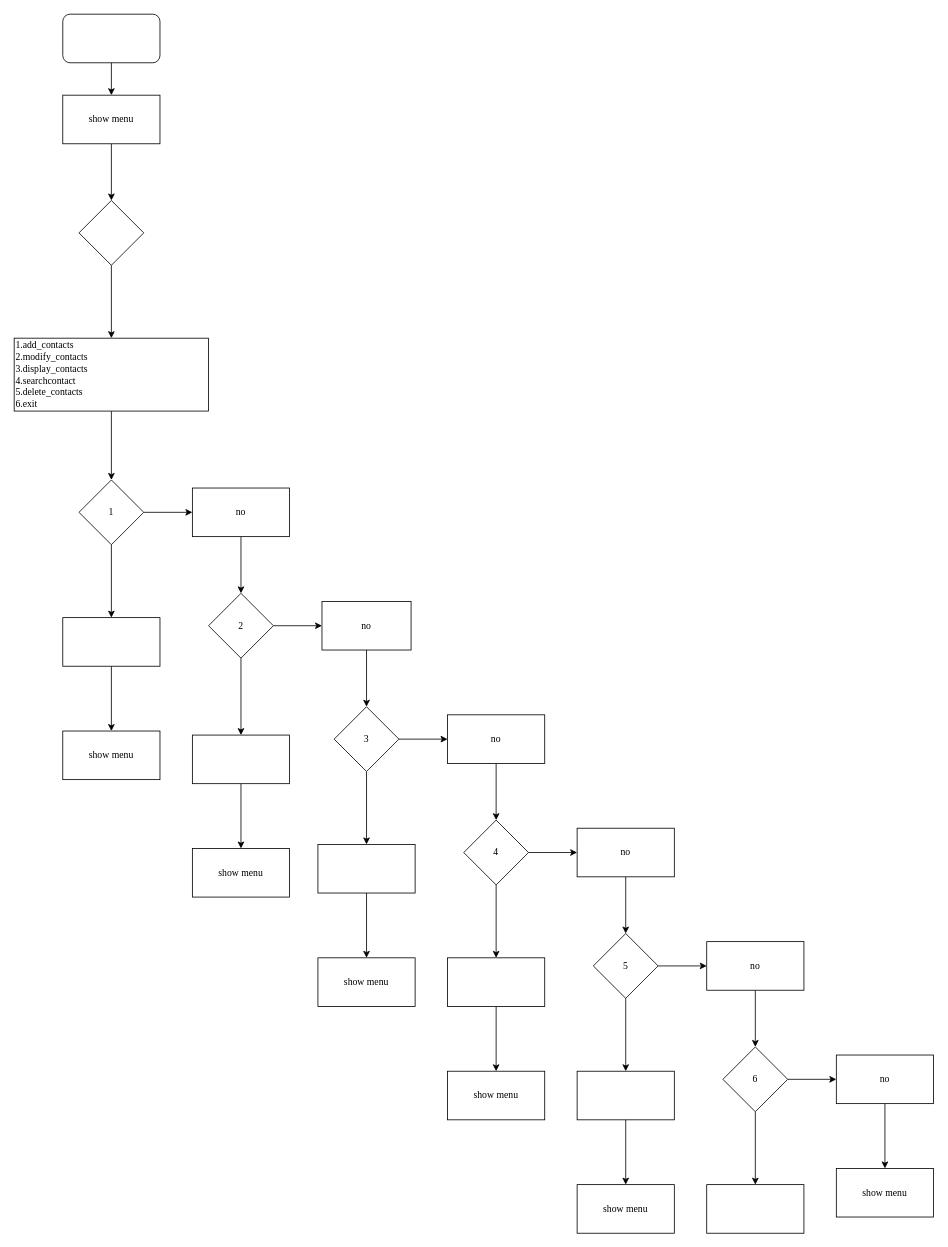
This 948x1247 diagram has some shape labels left out. Here are the shapes that lost their labels. From the top down, the centre of each, then its label:
At point (111, 38): "start".
At point (111, 232): "select option".
At point (111, 641): "yes add_contacts".
At point (241, 759): "yes modify_contacts".
At point (366, 868): "yes display_contacts".
At point (496, 981): "yes search_contacts".
At point (625, 1095): "yes delete_contact".
At point (755, 1208): "yes exit".
